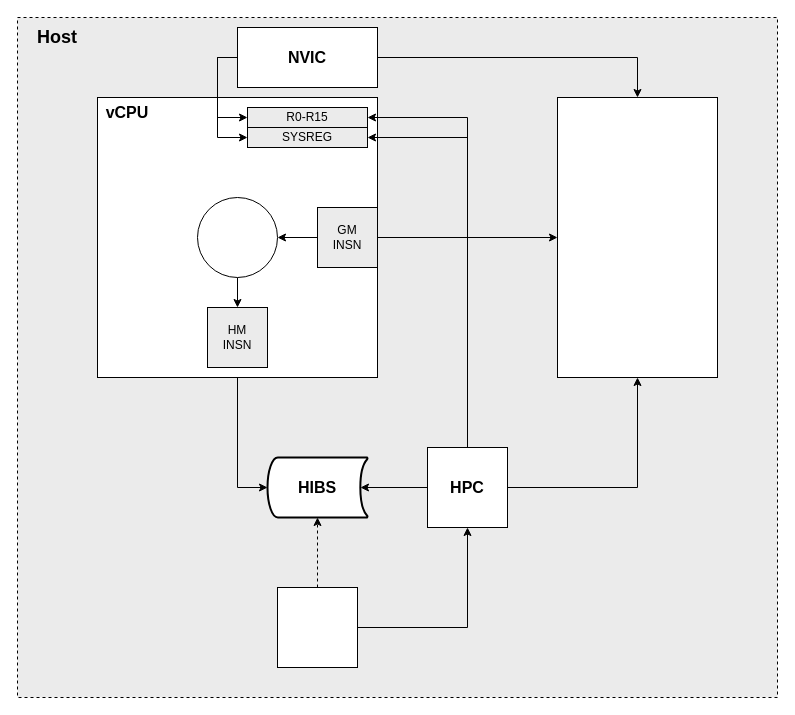
Image size: 795x715. Some labels were removed from this diagram. The centre of each missing label's shape, as x and y in pixels:
"Execution Loop" belongs at [237,237].
"HIBSO" belongs at [317,627].
"Virtual Memory Address Space" belongs at [637,237].
